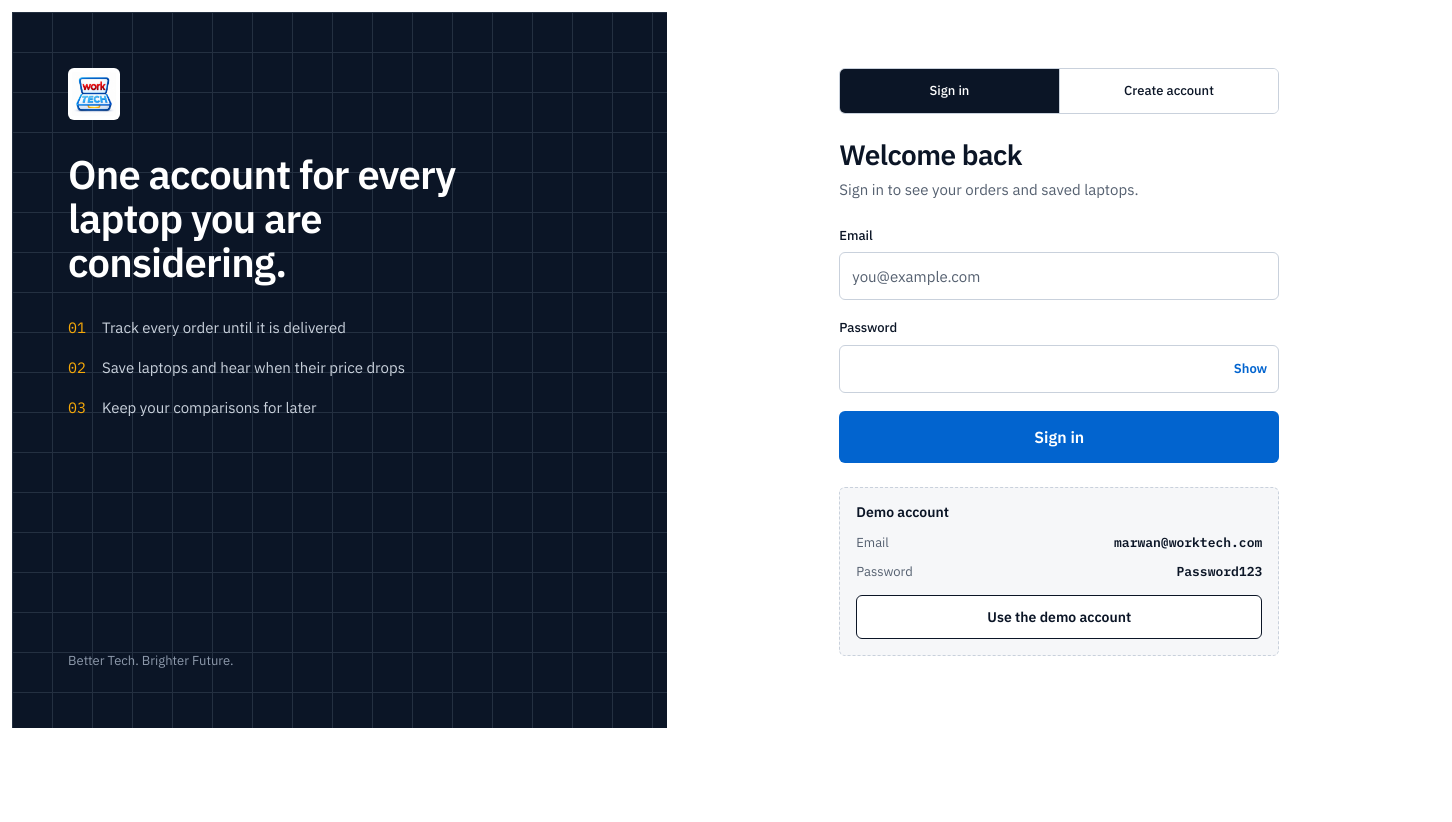
Test: sign in › brings a guest back to the page that asked for an account, with its query
Click the button "Use the demo account" at (1059, 617), box x1=856 y1=595 x2=1262 y2=639
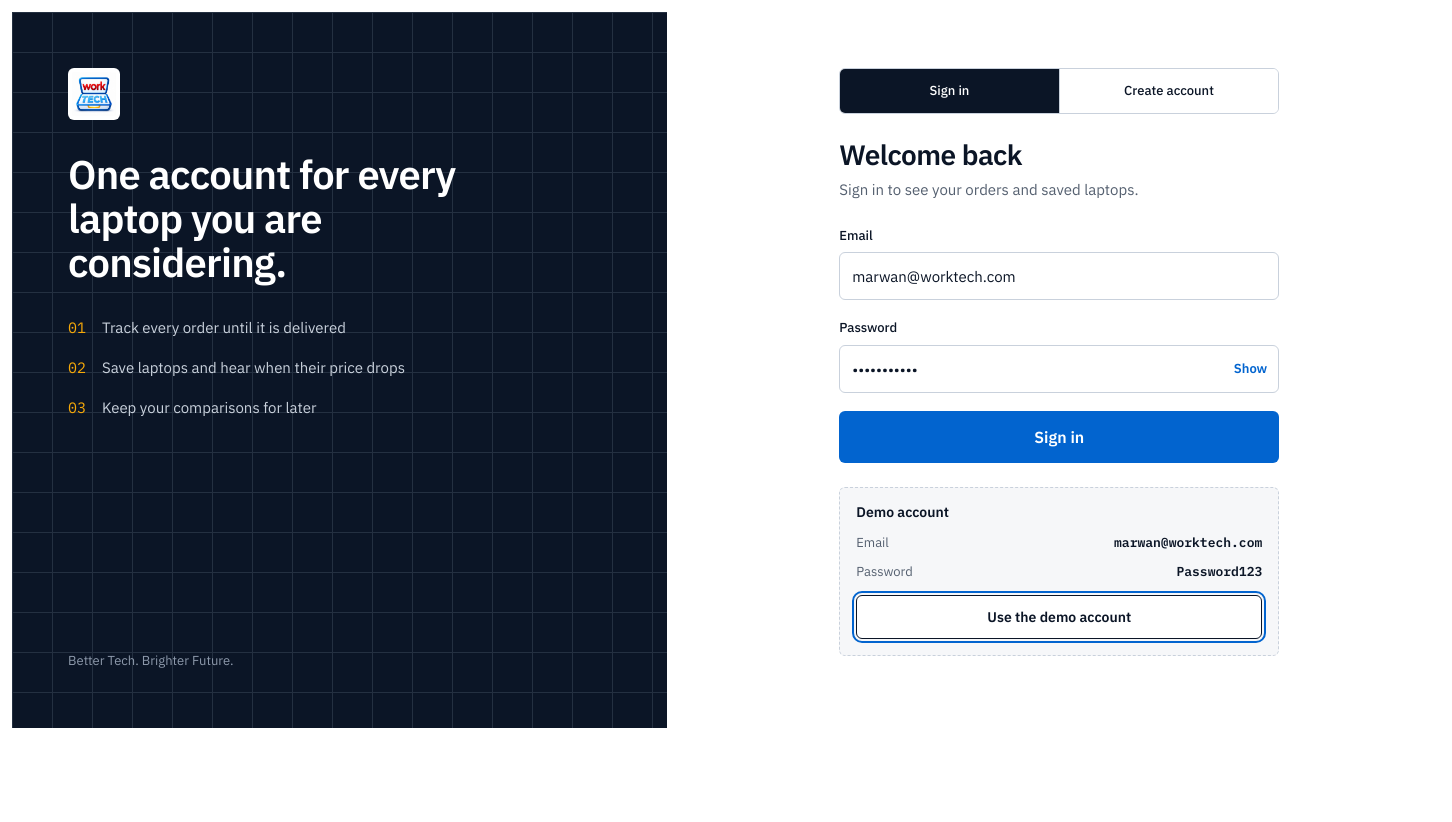
Click the button "Sign in" at (1059, 437), box x1=839 y1=411 x2=1279 y2=463
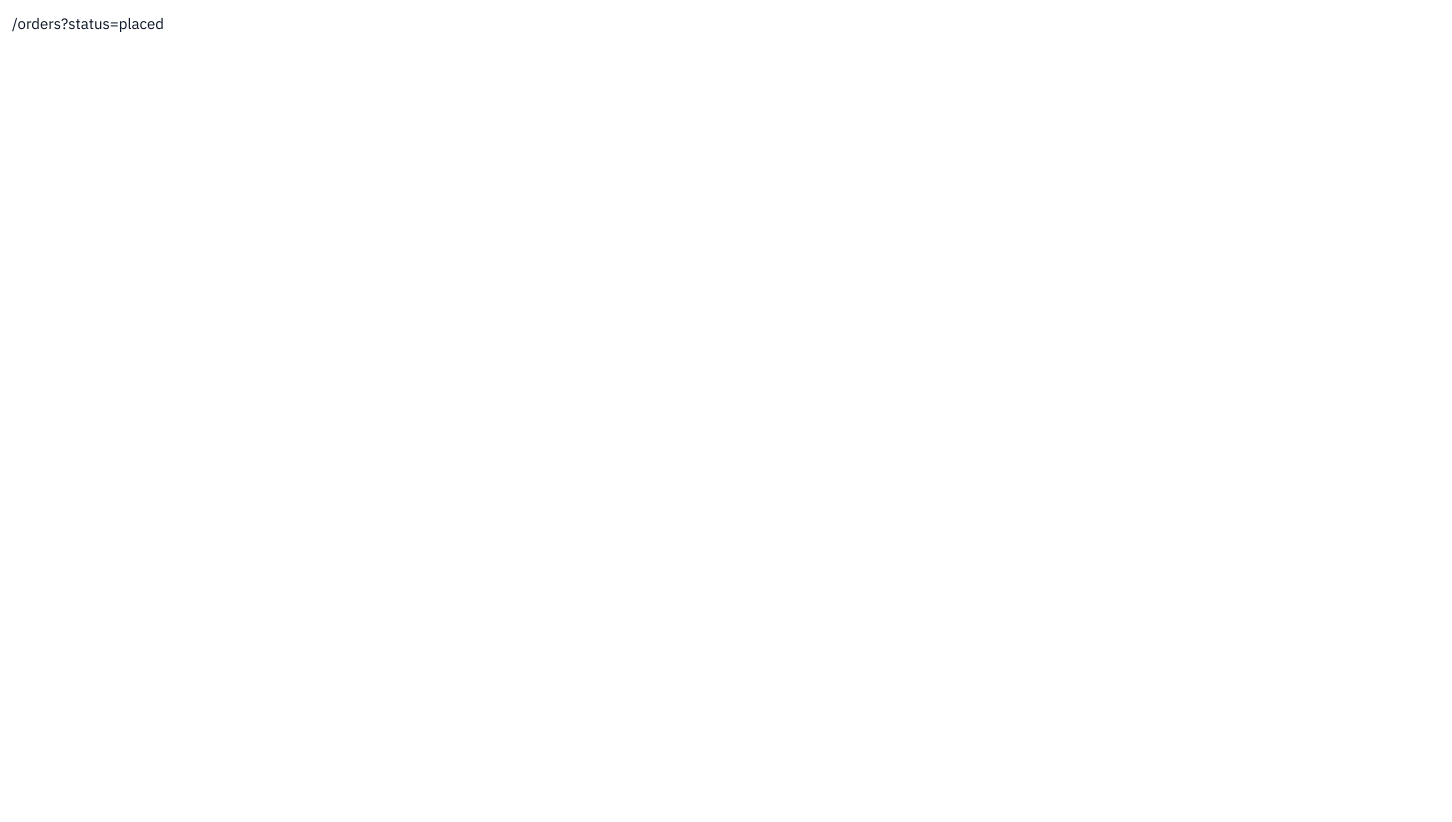
Now the text "/orders?status=placed" is shown, box x1=12 y1=14 x2=164 y2=33
